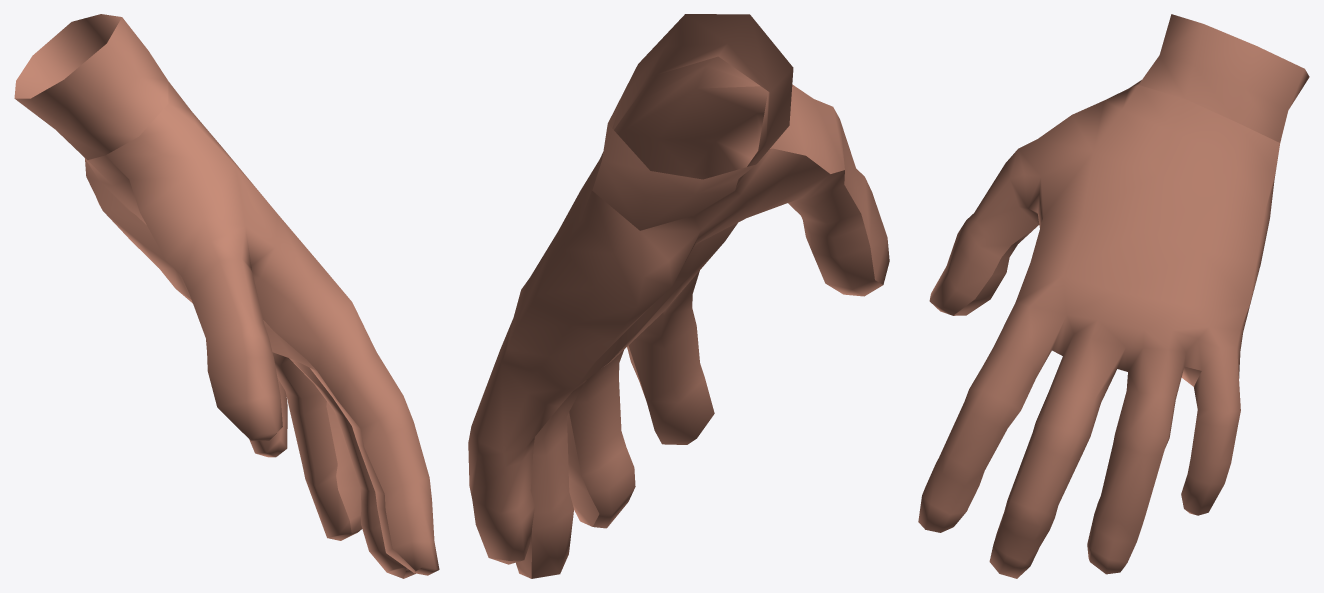
The model's file is mano_izq.obj.
3 views of the same model, side by side, from view 1: azimuth 30°, elevation 25°; view 2: azimuth 150°, elevation 25°; view 3: azimuth 270°, elevation 25° (orthographic). The views are drawn at different scales.
Parts seen in each view (by area): view 1: node_id794.001; view 2: node_id794.001; view 3: node_id794.001.
Boxes of the visible parts, left/top/right/bottom form: node_id794.001: left=14, top=14, right=439, bottom=578; node_id794.001: left=468, top=14, right=889, bottom=578; node_id794.001: left=918, top=14, right=1309, bottom=578.
Size of the model in its own units: 0.1242 by 0.2152 by 0.1609.
Materials: 1 (1 with a texture image).
